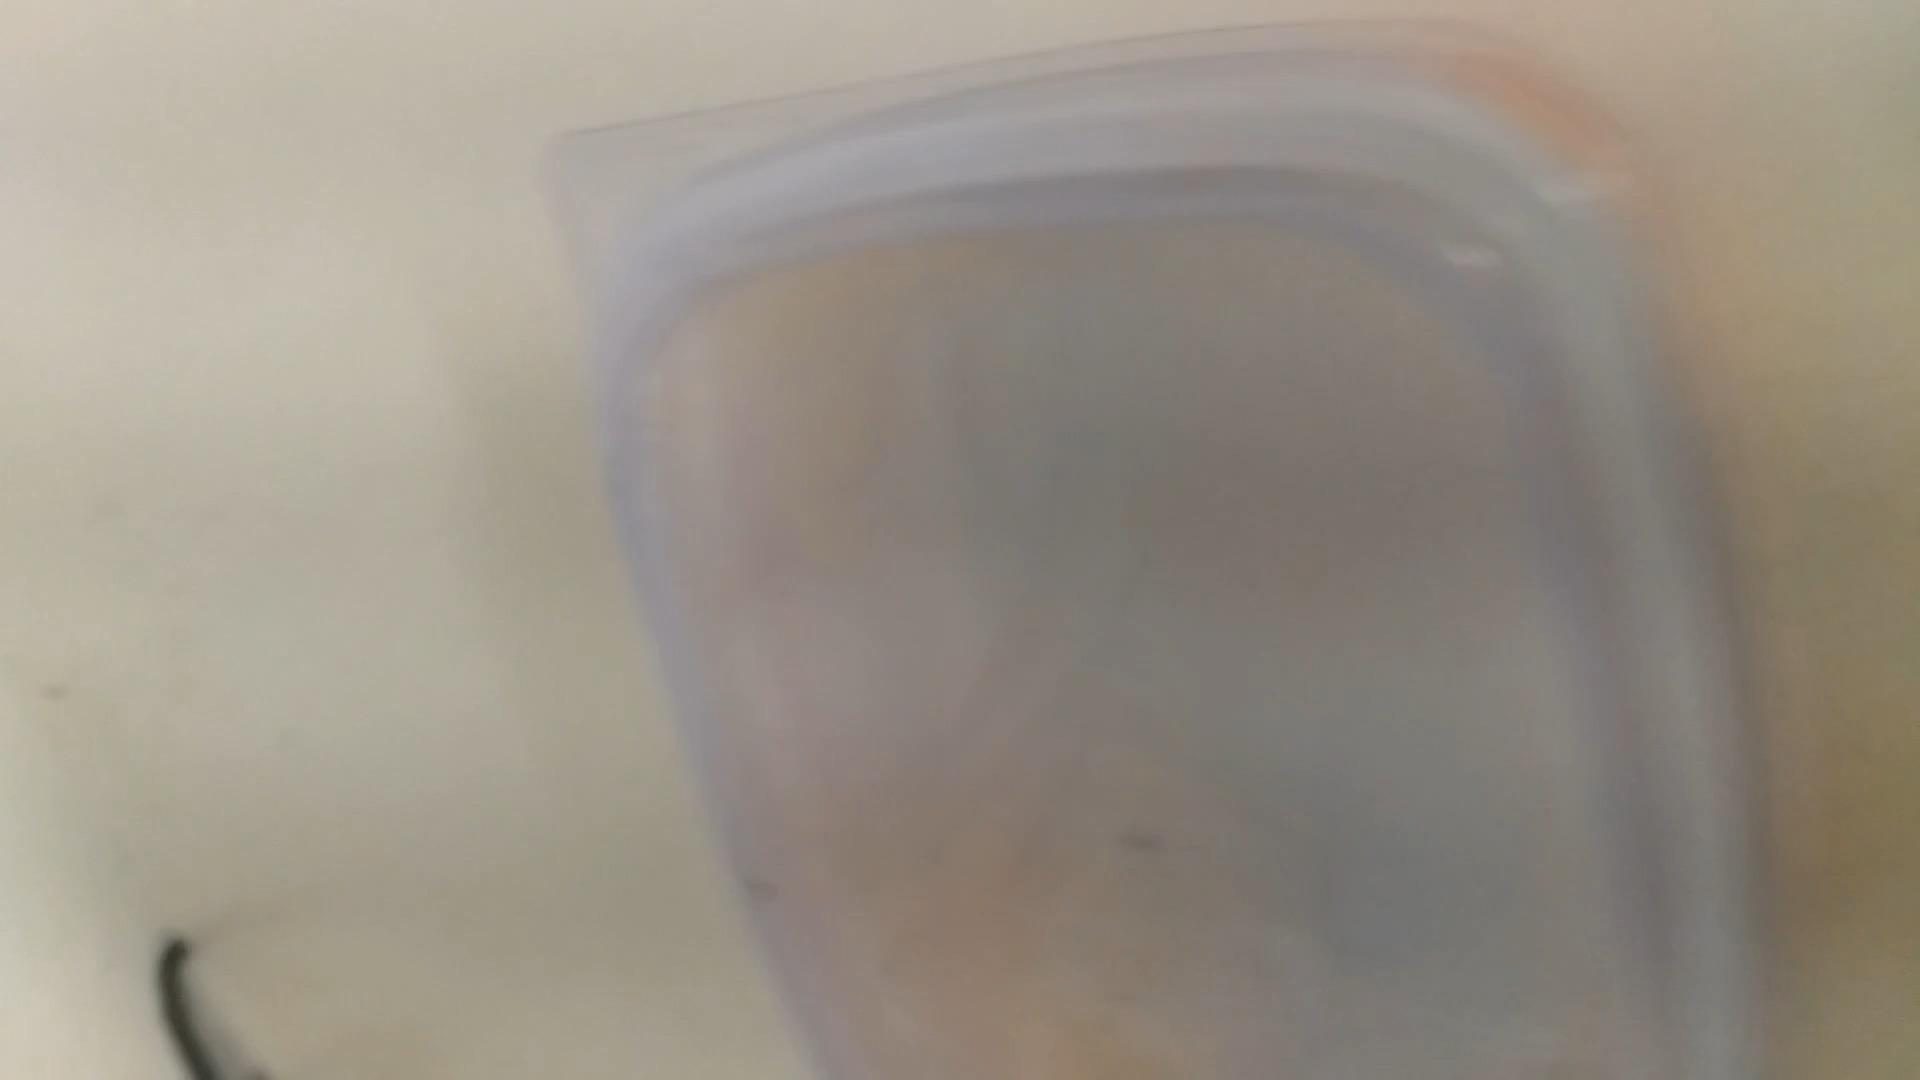butter: (530, 17, 1775, 1080)
